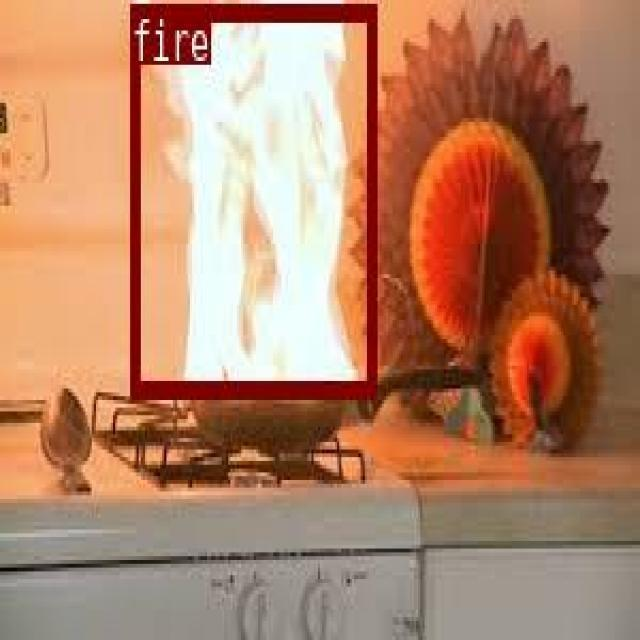fire: (129, 1, 375, 393)
